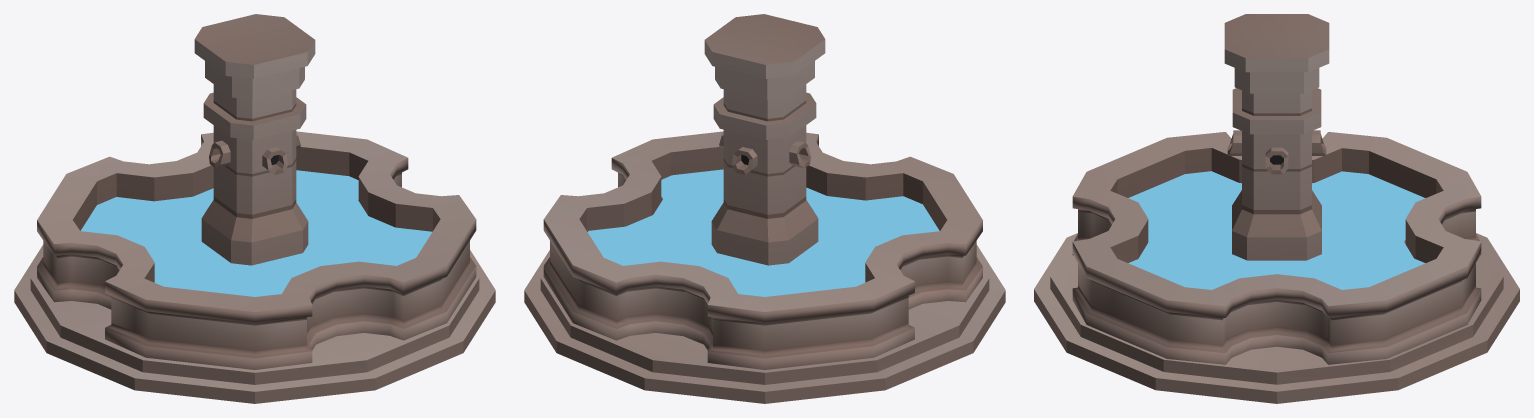
Rendered from Mesh_ExtraProps.glb.
The picture shows the model from 3 angles, left to right: view 1: azimuth 30°, elevation 25°; view 2: azimuth 150°, elevation 25°; view 3: azimuth 270°, elevation 25°; orthographic projection.
Visible parts, largest first — view 1: Mesh_Fountain; view 2: Mesh_Fountain; view 3: Mesh_Fountain.
Part boxes in pixels (bbox=[...]): Mesh_Fountain: bbox=[14, 14, 495, 403]; Mesh_Fountain: bbox=[524, 14, 1005, 403]; Mesh_Fountain: bbox=[1034, 14, 1519, 403].
Bounding box in the file's own units: 4.29 × 2.59 × 4.29.
1 material, 1 textured.
